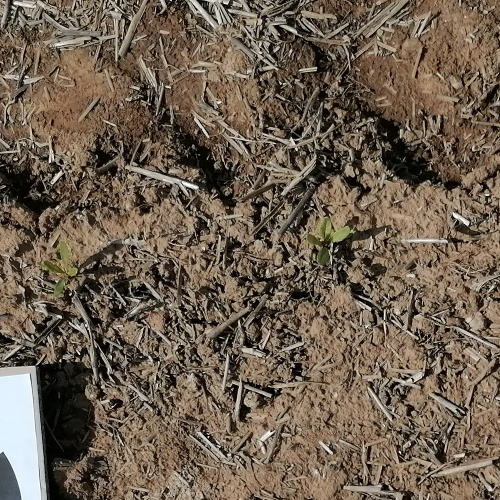beet: (306, 217, 351, 265), (42, 241, 77, 296)
